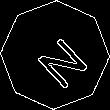N_NW: (23, 23, 87, 87)
